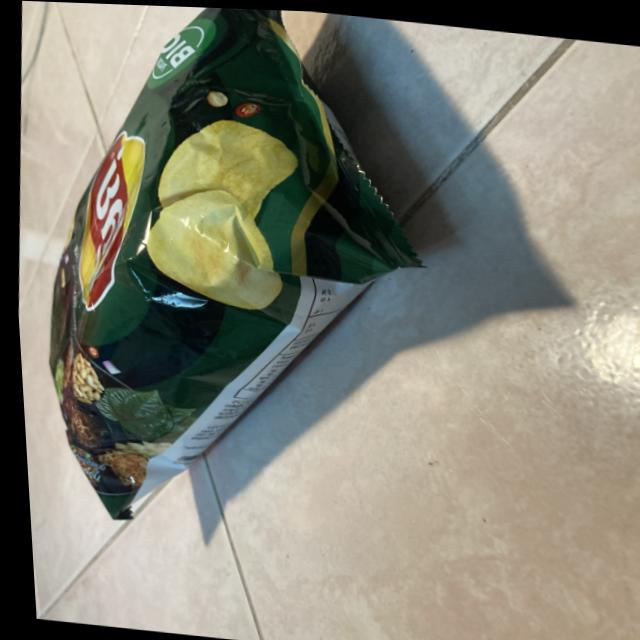Laygreen: (9, 0, 453, 560)
